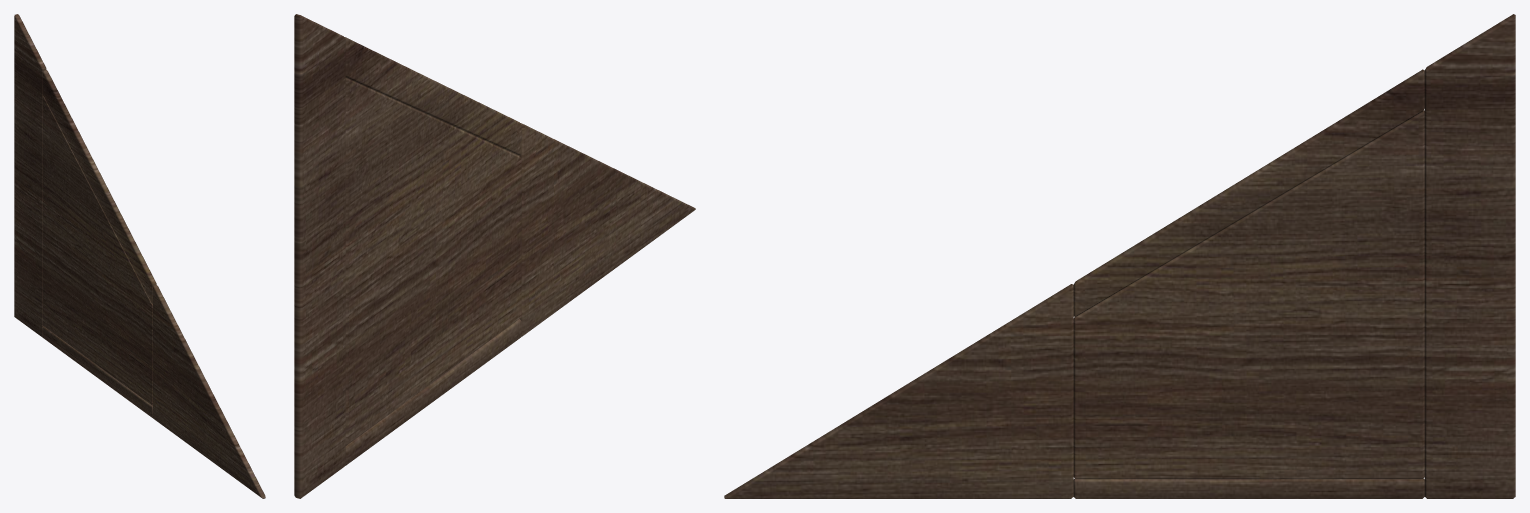
Rendered from hide_spot_2.fbx.
3 views of the same model, side by side, from view 1: azimuth 30°, elevation 25°; view 2: azimuth 150°, elevation 25°; view 3: azimuth 270°, elevation 25° (orthographic). The views are drawn at different scales.
Visible parts, largest first — view 1: door, back, polySurface6, polySurface7; view 2: door, back, polySurface6, polySurface7; view 3: door, back, polySurface6, polySurface7.
Boxes of the visible parts, left/top/right/bottom form: door: left=42, top=96, right=152, bottom=405; back: left=14, top=14, right=46, bottom=337; polySurface6: left=153, top=285, right=265, bottom=498; polySurface7: left=42, top=69, right=156, bottom=417; door: left=345, top=78, right=521, bottom=445; back: left=294, top=14, right=345, bottom=498; polySurface6: left=520, top=123, right=695, bottom=336; polySurface7: left=344, top=37, right=521, bottom=465; door: left=1073, top=110, right=1424, bottom=479; back: left=1424, top=14, right=1515, bottom=498; polySurface6: left=724, top=284, right=1073, bottom=498; polySurface7: left=1073, top=69, right=1424, bottom=498.
Size of the model in its own units: 0.0182 by 1 by 1.49.
Materials: 1 (1 with a texture image).
